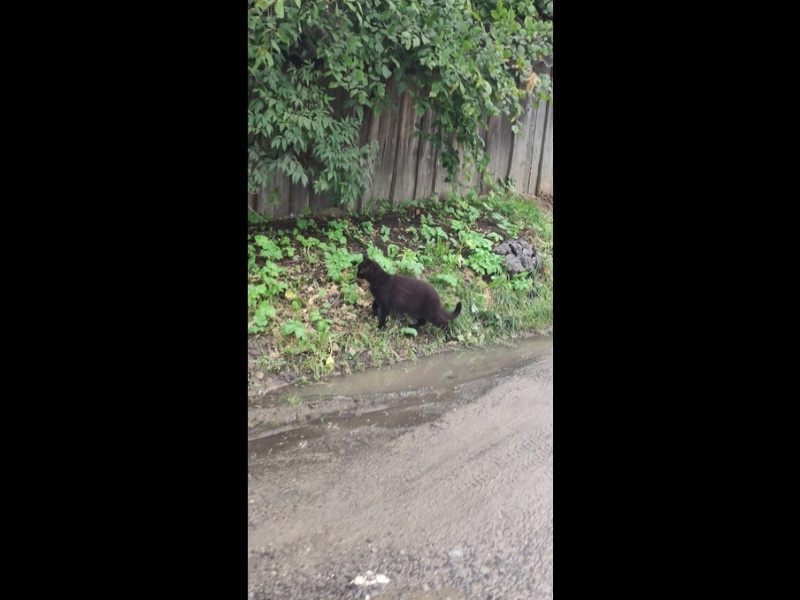cat: (353, 252, 464, 343)
